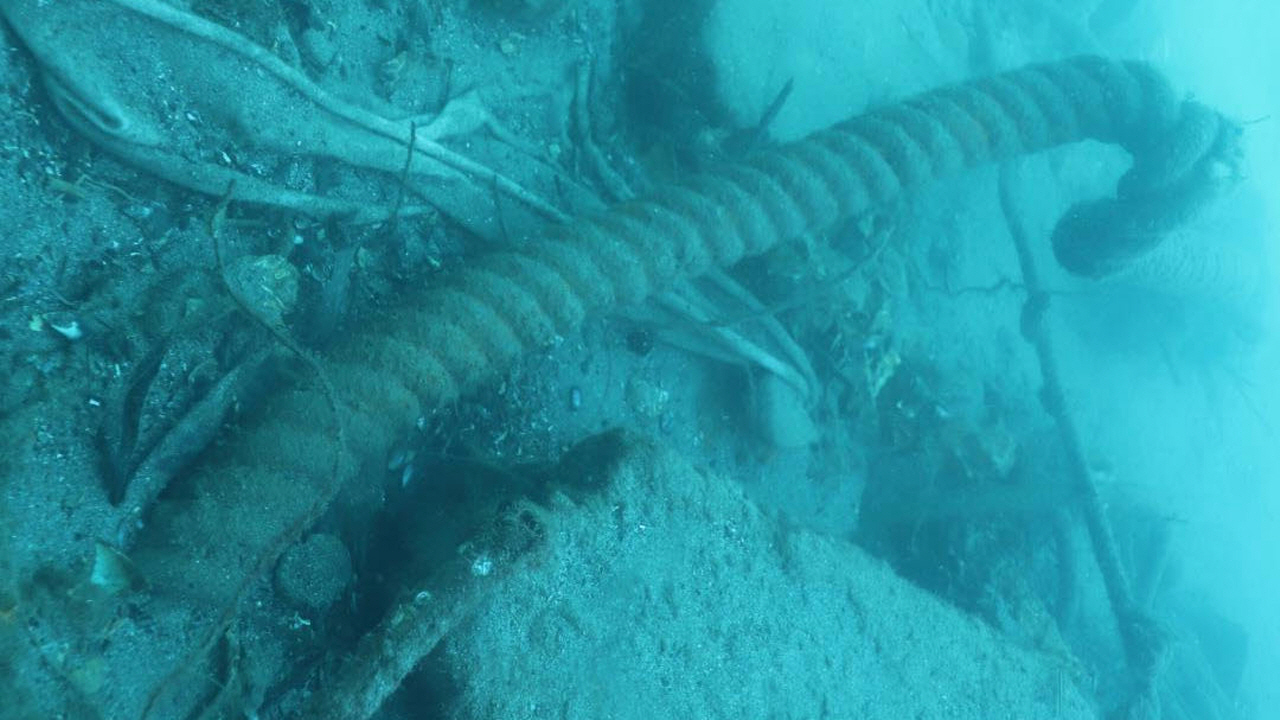rope: (124, 54, 1242, 610)
